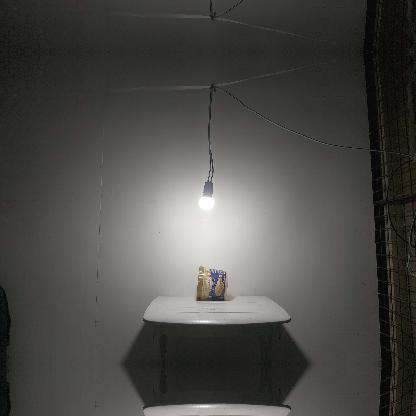Lady-s-Choice: (196, 266, 228, 300)
